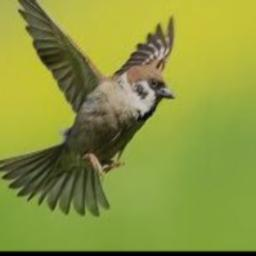Sparrow: (0, 0, 175, 217)
